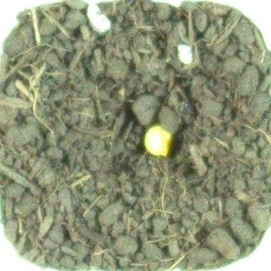chilli seed: (140, 122, 175, 159)
